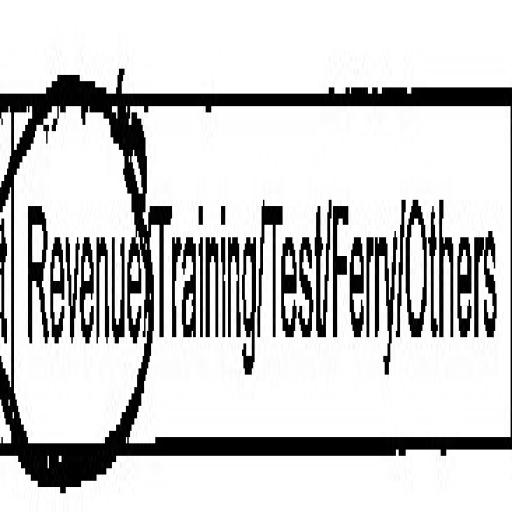check: (9, 0, 150, 512)
